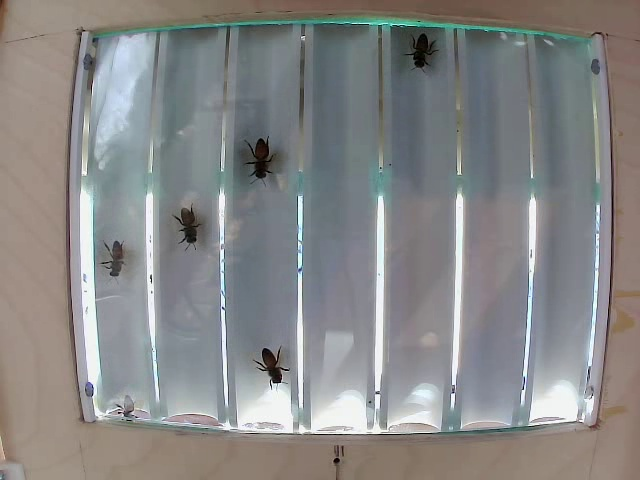bee: (170, 197, 214, 260), (412, 35, 454, 98), (92, 231, 140, 283), (241, 134, 277, 186), (251, 344, 288, 383)
